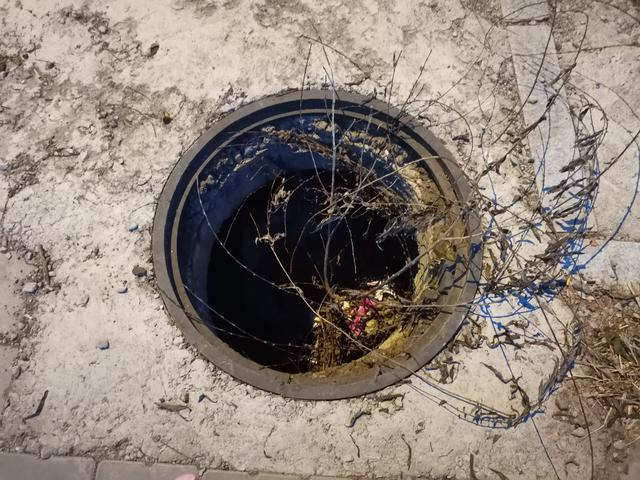lose: (142, 85, 497, 393)
